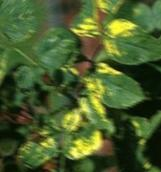Tomato leaf mosaic virus: (87, 56, 148, 114), (101, 18, 161, 71), (28, 25, 80, 75), (13, 134, 64, 172), (0, 13, 42, 50), (12, 63, 40, 101), (0, 43, 15, 96)
